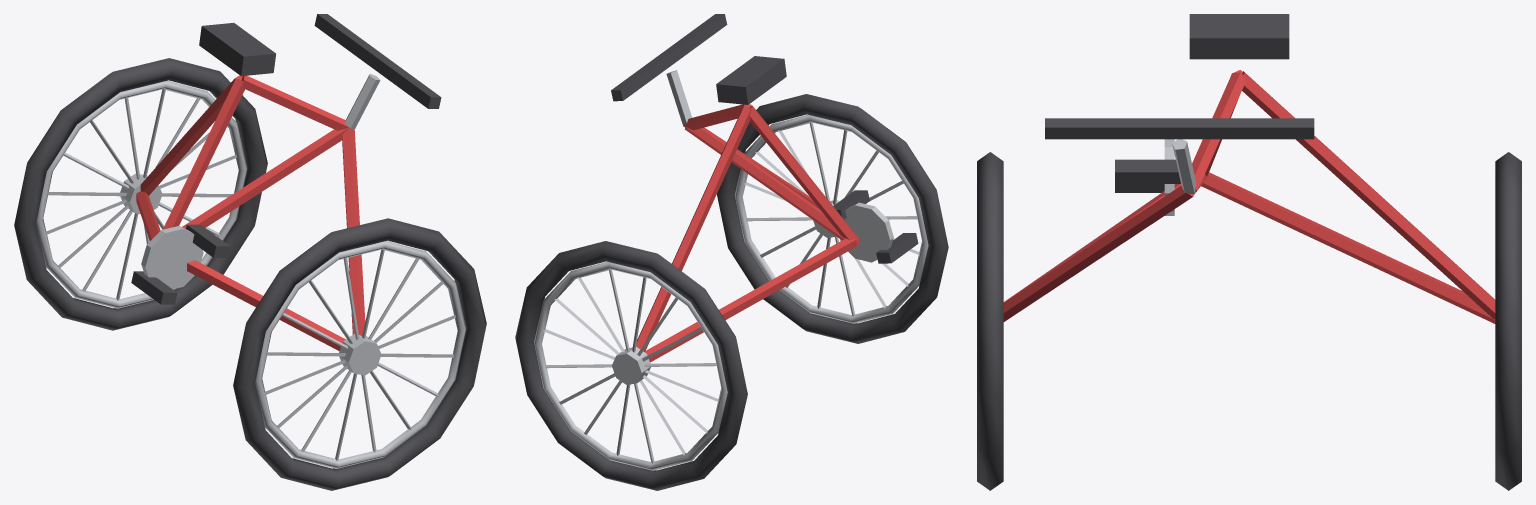
File: halloween-slasher-street-abandoned-bicycle-4a72fcff__27317.glb
3 views of the same model, side by side, from view 1: azimuth 30°, elevation 25°; view 2: azimuth 150°, elevation 25°; view 3: azimuth 270°, elevation 25° (orthographic). The views are drawn at different scales.
Parts seen in each view (by area): view 1: abandoned-bicycle; view 2: abandoned-bicycle; view 3: abandoned-bicycle.
Part boxes in pixels (<box>): abandoned-bicycle: <box>14,14,486,490</box>; abandoned-bicycle: <box>515,14,948,490</box>; abandoned-bicycle: <box>977,14,1521,490</box>.
Bounding box in the file's own units: 0.75 × 0.9789 × 1.09.
